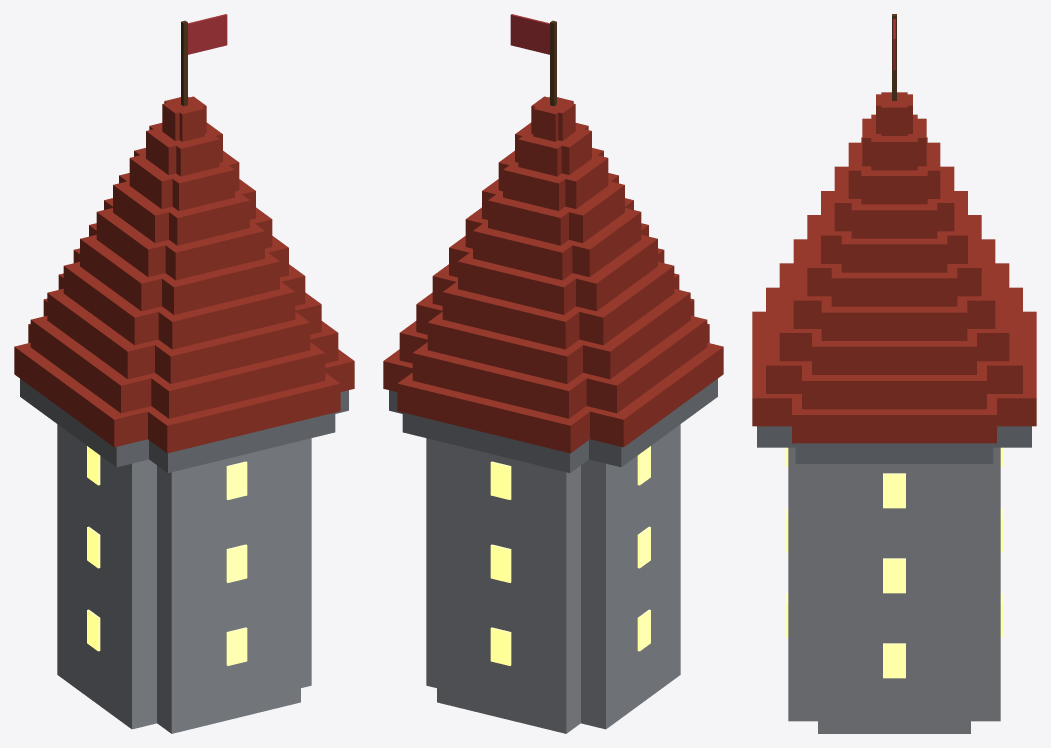
File: tt-tower-crown-3.glb
The picture shows the model from 3 angles, left to right: view 1: azimuth 30°, elevation 25°; view 2: azimuth 150°, elevation 25°; view 3: azimuth 270°, elevation 25°; orthographic projection. The views are drawn at different scales.
Parts seen in each view (by area): view 1: box-prop; view 2: box-prop; view 3: box-prop.
Part boxes in pixels (x1=…): box-prop: x1=14, y1=14, x2=354, y2=733; box-prop: x1=383, y1=14, x2=723, y2=733; box-prop: x1=752, y1=14, x2=1036, y2=733.
Bounding box in the file's own units: 9.1 × 23.8 × 9.1.
